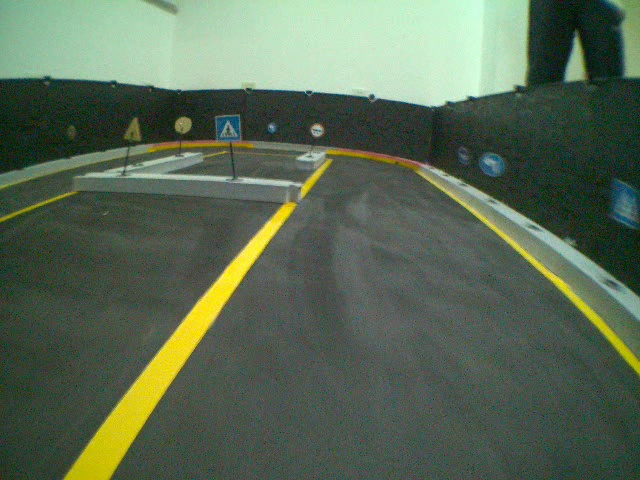Check: (309, 123, 323, 138)
crossing: (213, 114, 241, 141)
turn: (478, 150, 503, 177), (265, 120, 278, 133)
